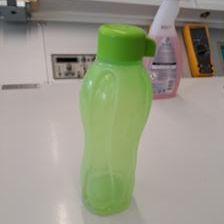bottle: (75, 24, 158, 215)
